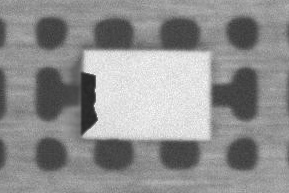DIE_BROKEN: (78, 69, 98, 135)
